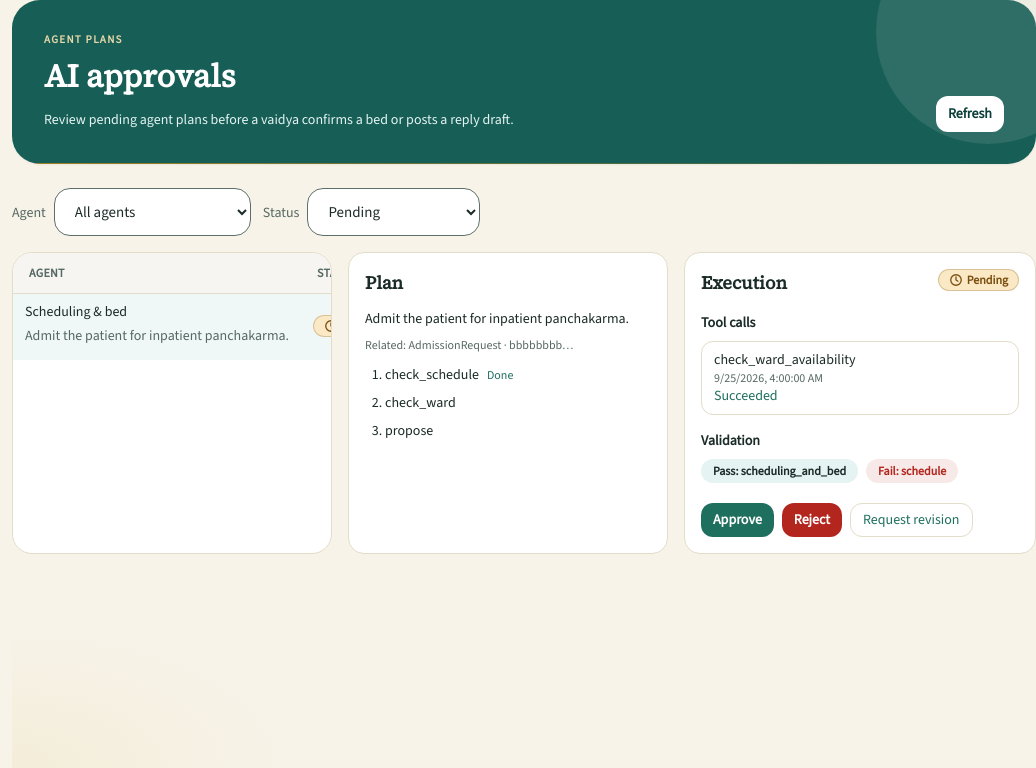
it: AiApprovalsPage › refetches after approve and shows the bed allocation
Click the button "Approve" at point(737, 520), box left=701, top=503, right=774, bottom=537
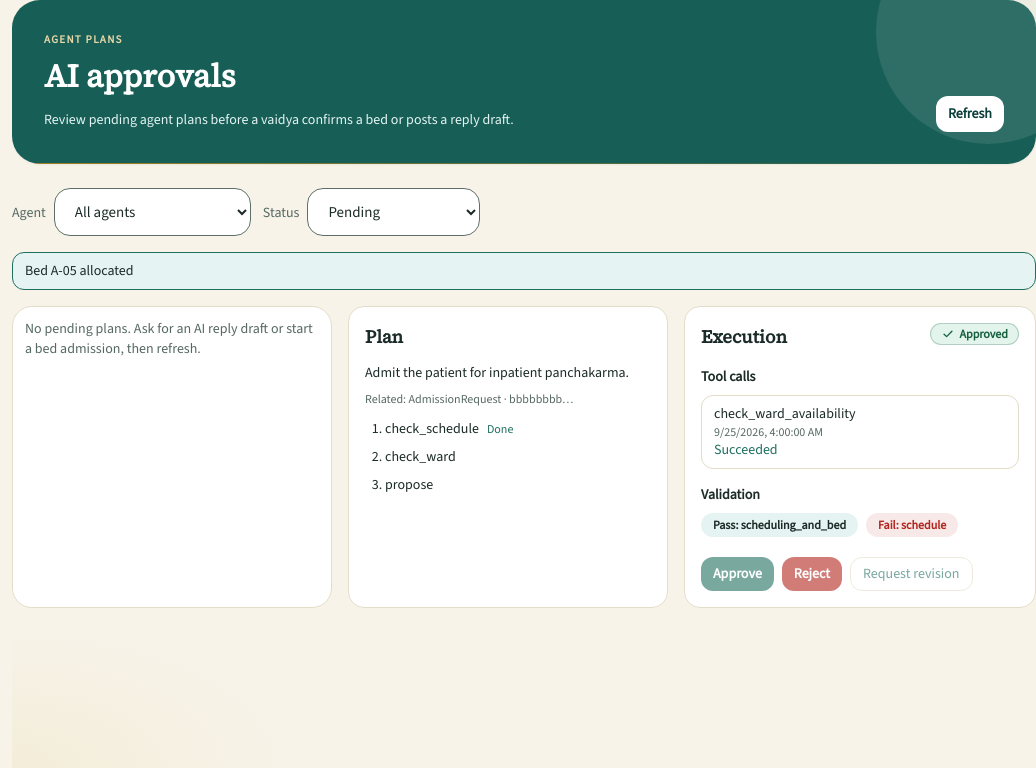
Check: the message reads "Bed A-05 allocated", box left=25, top=261, right=134, bottom=280
